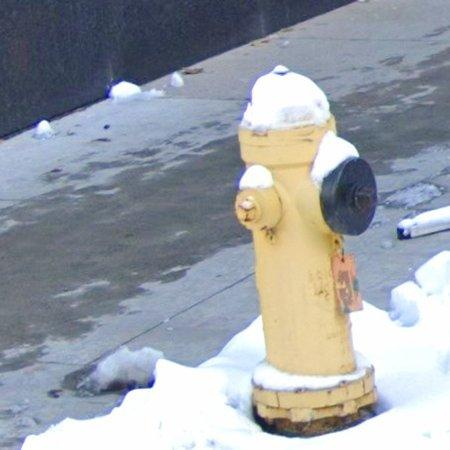a fire hydrant: (236, 65, 378, 436)
